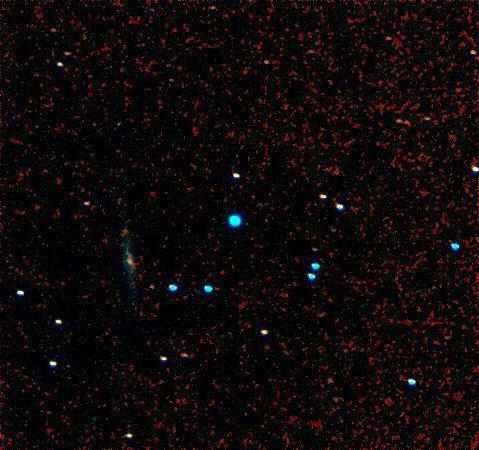star: (108, 215, 138, 245)
